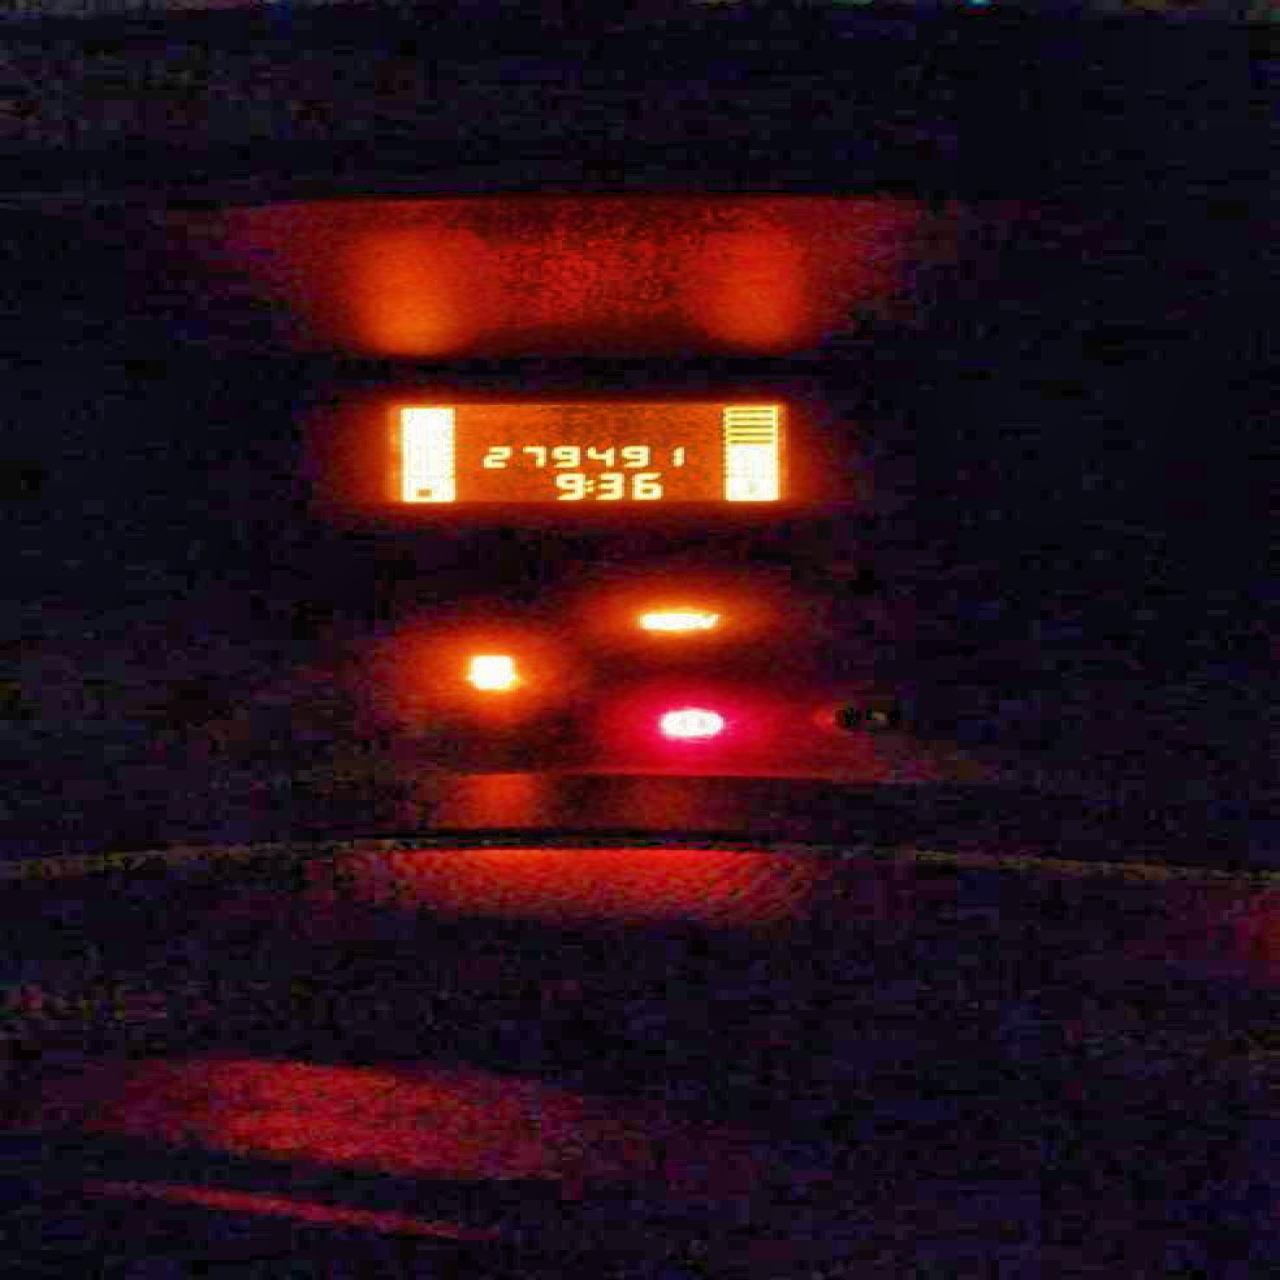1: (669, 444, 685, 468)
2: (479, 444, 510, 468)
3: (591, 471, 621, 498)
4: (583, 445, 611, 467)
6: (629, 471, 660, 501)
7: (517, 445, 544, 467)
9: (551, 471, 583, 501), (549, 443, 580, 468), (617, 444, 647, 467)
X: (583, 478, 593, 491)
odometer: (377, 399, 789, 505)
